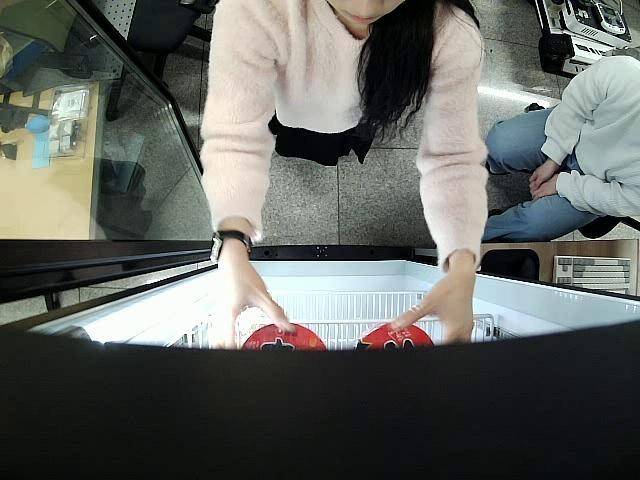01_ShinRamen_L: (236, 323, 328, 356), (351, 322, 438, 351)
